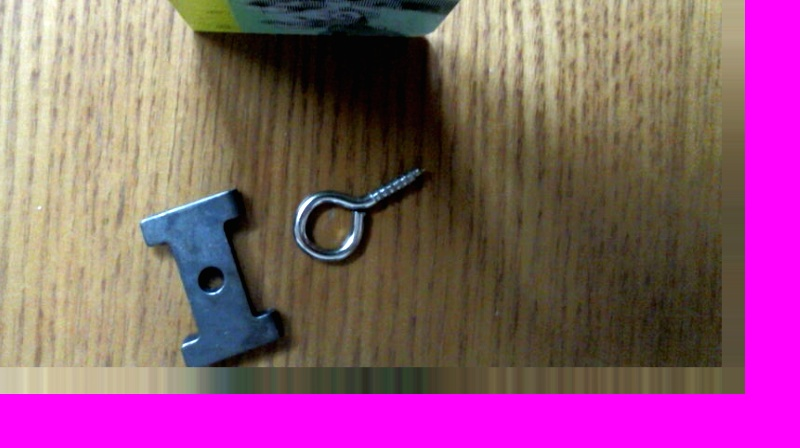O001: (288, 163, 426, 263)
O002: (136, 185, 283, 365)
